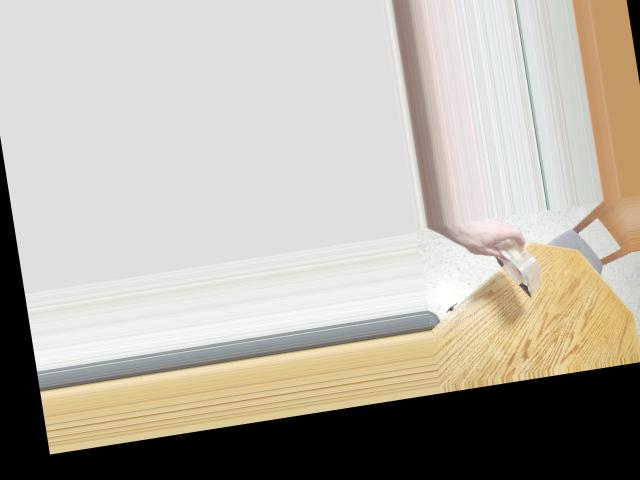cheese: (467, 218, 558, 291)
